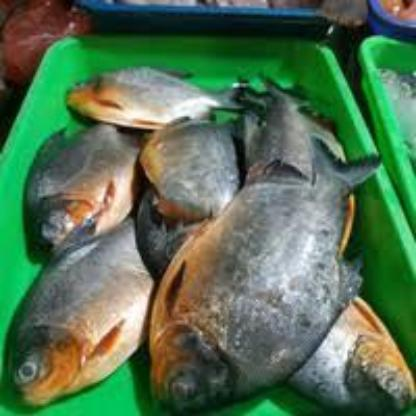ikan-pacu: (143, 174, 365, 406), (6, 216, 150, 406), (291, 289, 415, 415), (16, 125, 146, 245), (71, 64, 210, 124)
